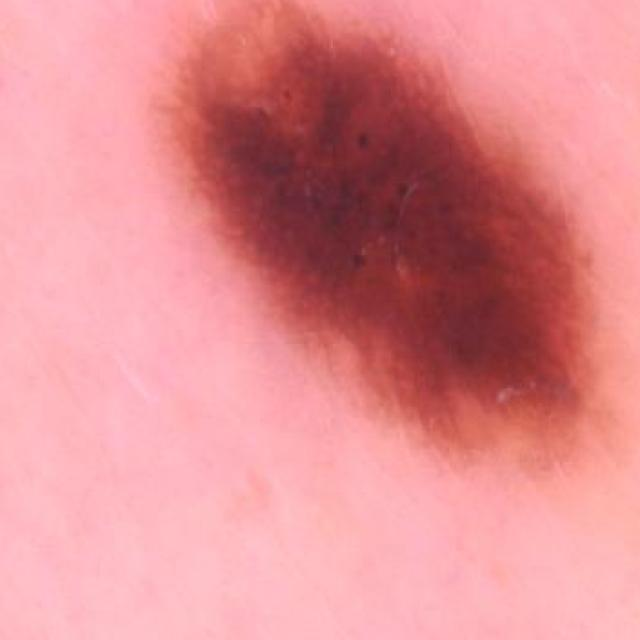NV: (141, 0, 614, 499)
